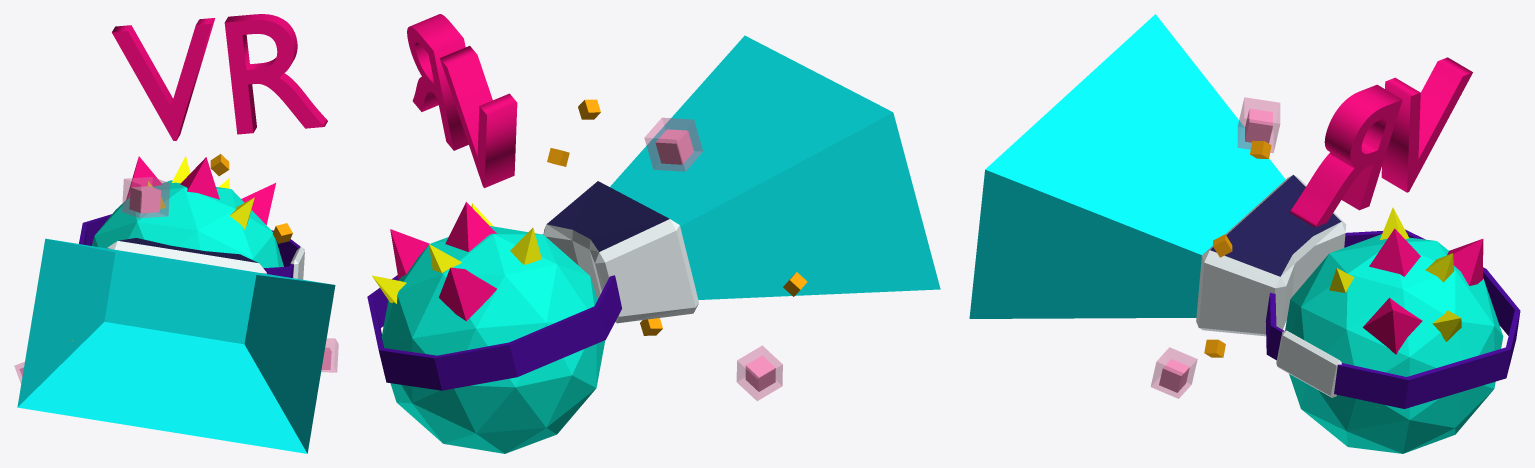
Rendered from planet_vr_3.fbx.
3 views of the same model, side by side, from view 1: azimuth 30°, elevation 25°; view 2: azimuth 150°, elevation 25°; view 3: azimuth 270°, elevation 25° (orthographic). The views are drawn at different scales.
Visible parts, largest first — view 1: pCube19, pCube12, VR, pPlatonic20, pCube15, pCube13, pPyramid2, pCube16, pPyramid1, pPyramid3, pCube18, pPyramid7 (+1 smaller); view 2: pCube19, pPlatonic20, pCube12, VR, pCube13, pCube15, pPyramid3, pCube24, pPyramid2, pCube16, pPyramid1, pCube25 (+1 smaller); view 3: pCube19, pPlatonic20, VR, pCube12, pCube13, pCube14, pCube15, pPyramid1, pCube18, pPyramid2, pPyramid3, pCube16 (+2 smaller).
Part boxes in pixels (box(x1,y1,x2,y2)): pCube19: box(17, 238, 335, 453); pCube12: box(104, 238, 266, 344); VR: box(112, 14, 327, 140); pPlatonic20: box(92, 180, 283, 267); pCube15: box(122, 177, 170, 218); pCube13: box(79, 214, 304, 277); pPyramid2: box(180, 157, 219, 199); pCube16: box(129, 186, 160, 213); pPyramid1: box(241, 183, 275, 224); pPyramid3: box(126, 156, 162, 199); pCube18: box(321, 338, 338, 372); pPyramid7: box(230, 197, 254, 229); pCube19: box(610, 35, 940, 299); pPlatonic20: box(381, 226, 605, 453); pCube12: box(543, 181, 698, 323); VR: box(407, 14, 517, 187); pCube13: box(367, 234, 621, 390); pCube15: box(644, 117, 702, 171); pPyramid3: box(439, 267, 496, 321); pCube24: box(736, 345, 782, 400); pPyramid2: box(445, 202, 496, 251); pCube16: box(655, 129, 693, 164); pPyramid1: box(390, 229, 429, 279); pCube25: box(745, 355, 775, 391); pCube19: box(969, 14, 1285, 318); pPlatonic20: box(1285, 234, 1503, 453); VR: box(1289, 57, 1472, 227); pCube12: box(1196, 175, 1346, 336); pCube13: box(1265, 229, 1520, 408); pCube14: box(1276, 330, 1341, 397); pCube15: box(1237, 97, 1280, 152); pPyramid1: box(1363, 297, 1422, 354); pCube18: box(1150, 347, 1197, 398); pPyramid2: box(1369, 228, 1420, 276); pPyramid3: box(1447, 239, 1483, 285); pCube16: box(1245, 108, 1272, 143).
Bounding box in the file's own units: 53.82 × 46.48 × 60.56.
